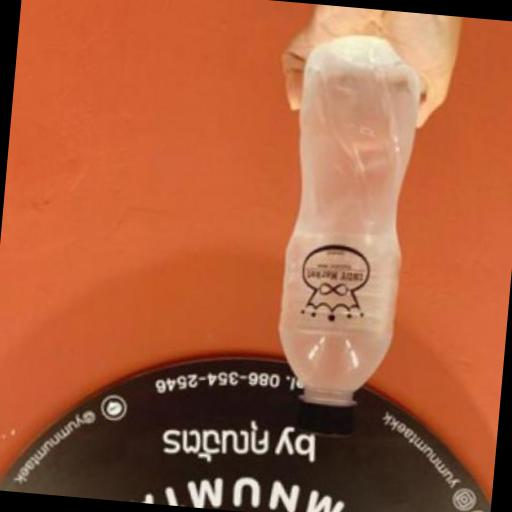Coca: (256, 22, 433, 450)
